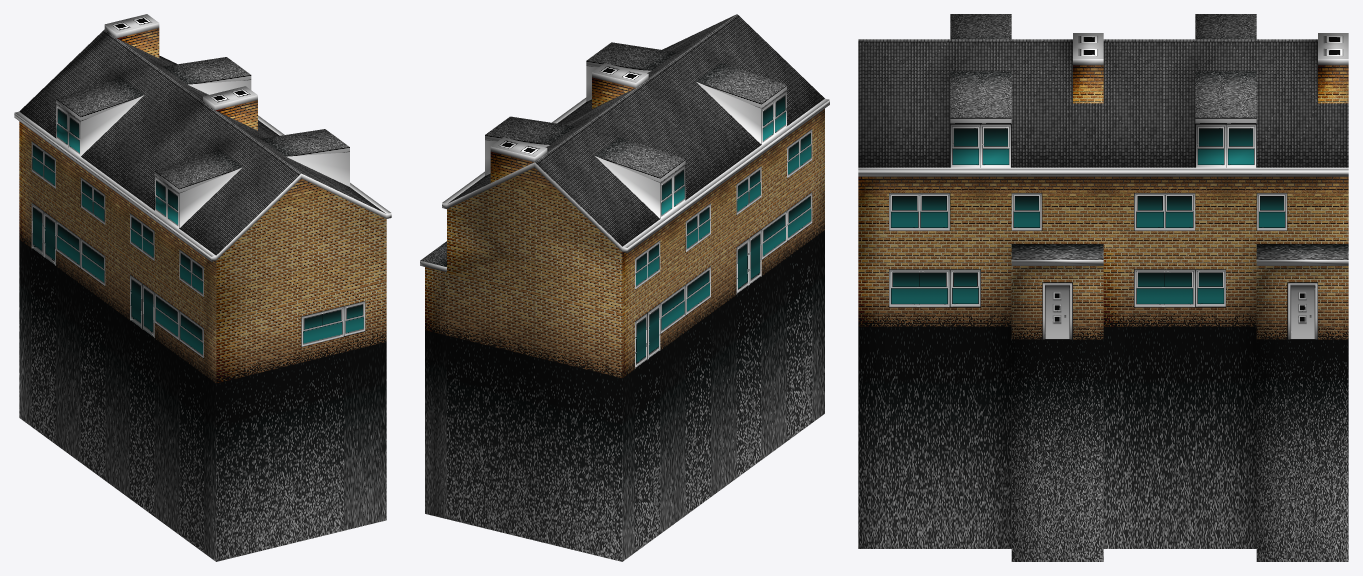
The model's file is doorzon_mod2_2b.fbx.
3 views of the same model, side by side, from view 1: azimuth 30°, elevation 25°; view 2: azimuth 150°, elevation 25°; view 3: azimuth 270°, elevation 25° (orthographic). The views are drawn at different scales.
Visible parts, largest first — view 1: doorzon_mod2_2b; view 2: doorzon_mod2_2b; view 3: doorzon_mod2_2b.
Part boxes in pixels (x1=…): doorzon_mod2_2b: x1=14, y1=14, x2=391, y2=561; doorzon_mod2_2b: x1=420, y1=14, x2=829, y2=561; doorzon_mod2_2b: x1=858, y1=14, x2=1348, y2=561.
Bounding box in the file's own units: 1062 × 1879 × 1800.
